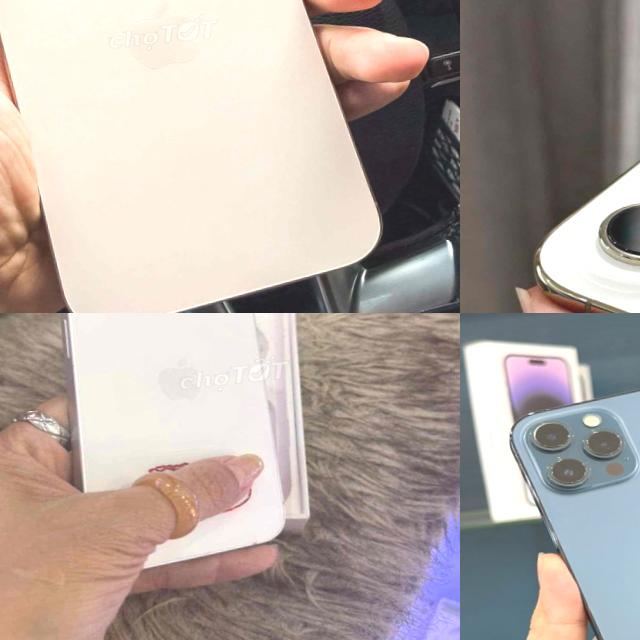gen_12_13: (503, 360, 640, 640)
gen_16: (0, 0, 379, 313), (60, 313, 284, 566)
gen_17: (520, 48, 640, 313)
